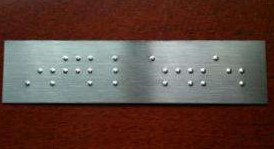Braille: (23, 54, 45, 88), (98, 55, 120, 88), (148, 55, 170, 88), (225, 55, 246, 89), (74, 55, 95, 88), (174, 54, 194, 88), (49, 55, 69, 88), (200, 55, 219, 88)
